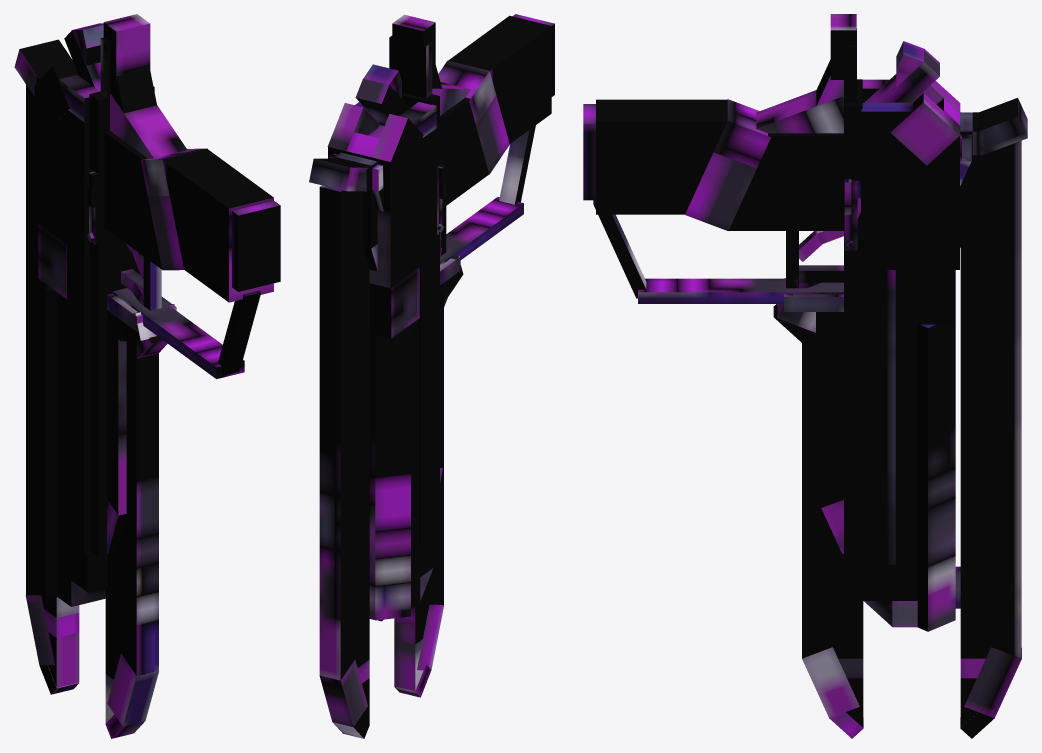
File: ender_blaster.obj
3 renders of one model, left to right at view 1: azimuth 30°, elevation 25°; view 2: azimuth 150°, elevation 25°; view 3: azimuth 270°, elevation 25°, orthographic. The views are drawn at different scales.
Visible parts, largest first — view 1: cube.065; view 2: cube.065; view 3: cube.065.
Part boxes in pixels (left/top/right/bottom): cube.065: left=14, top=14, right=280, bottom=738; cube.065: left=309, top=14, right=554, bottom=738; cube.065: left=583, top=14, right=1027, bottom=738.
Size of the model in its own units: 0.1757 by 1.52 by 0.8629.
